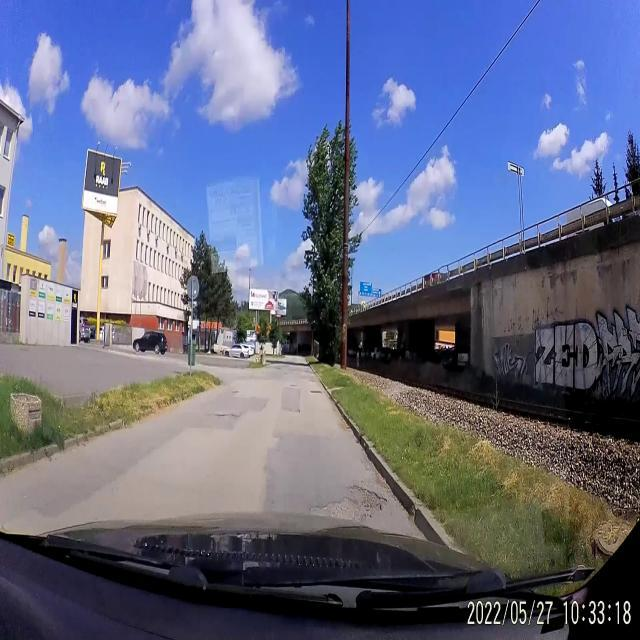Manhole: (310, 388, 323, 396)
Pothole: (306, 474, 388, 526), (212, 407, 240, 421), (288, 382, 300, 388), (232, 389, 240, 396)
